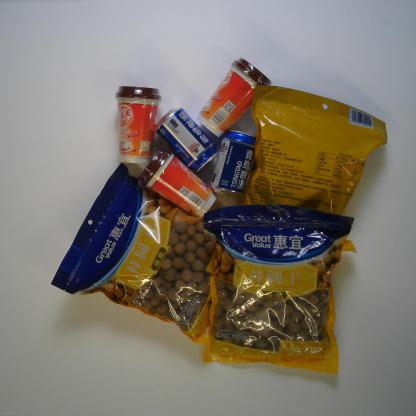Alcohol: (155, 106, 219, 172), (210, 129, 258, 199)
Dried Food: (50, 162, 217, 348), (202, 203, 355, 375), (238, 84, 388, 216)
Instant Drink: (196, 57, 272, 138), (137, 147, 217, 218), (114, 85, 162, 165)
